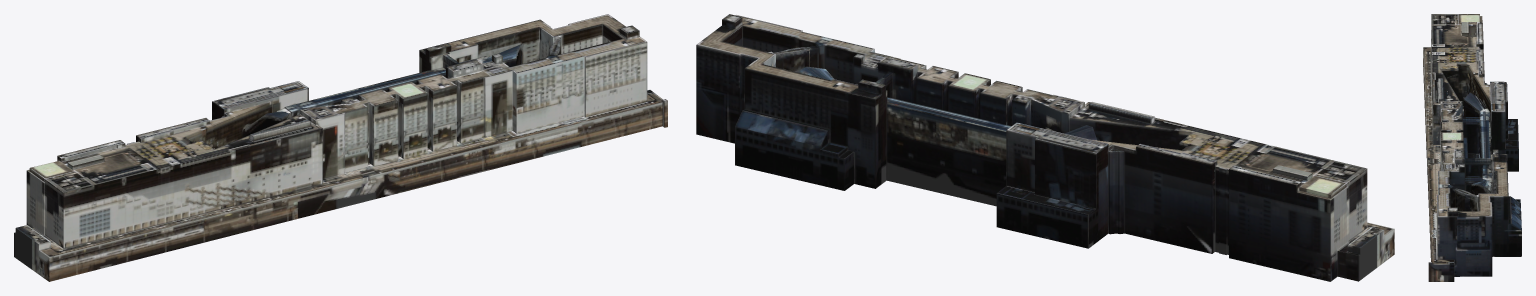
File: kyoto_station.glb
3 views of the same model, side by side, from view 1: azimuth 30°, elevation 25°; view 2: azimuth 150°, elevation 25°; view 3: azimuth 270°, elevation 25° (orthographic). The views are drawn at different scales.
Visible parts, largest first — view 1: 京都駅ビル; view 2: 京都駅ビル; view 3: 京都駅ビル.
Boxes of the visible parts, <box> form: 京都駅ビル: <box>14,14,667,281</box>; 京都駅ビル: <box>696,14,1394,281</box>; 京都駅ビル: <box>1423,14,1521,281</box>.
Size of the model in its own units: 478 by 66.25 by 91.67.
Materials: 2 (1 with a texture image).
